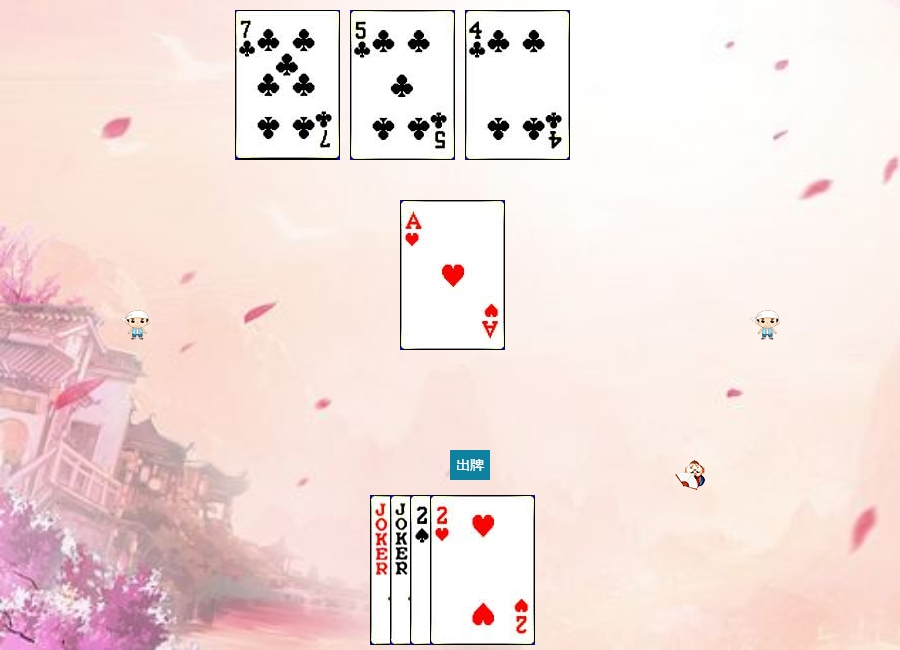14~3: (400, 200, 505, 350)
15~3: (430, 495, 535, 645)
15~4: (410, 495, 515, 645)
17~3: (390, 495, 495, 645)
18~4: (370, 495, 475, 645)
4~2: (465, 10, 570, 160)
5~2: (350, 10, 455, 160)
7~2: (235, 10, 340, 160)
